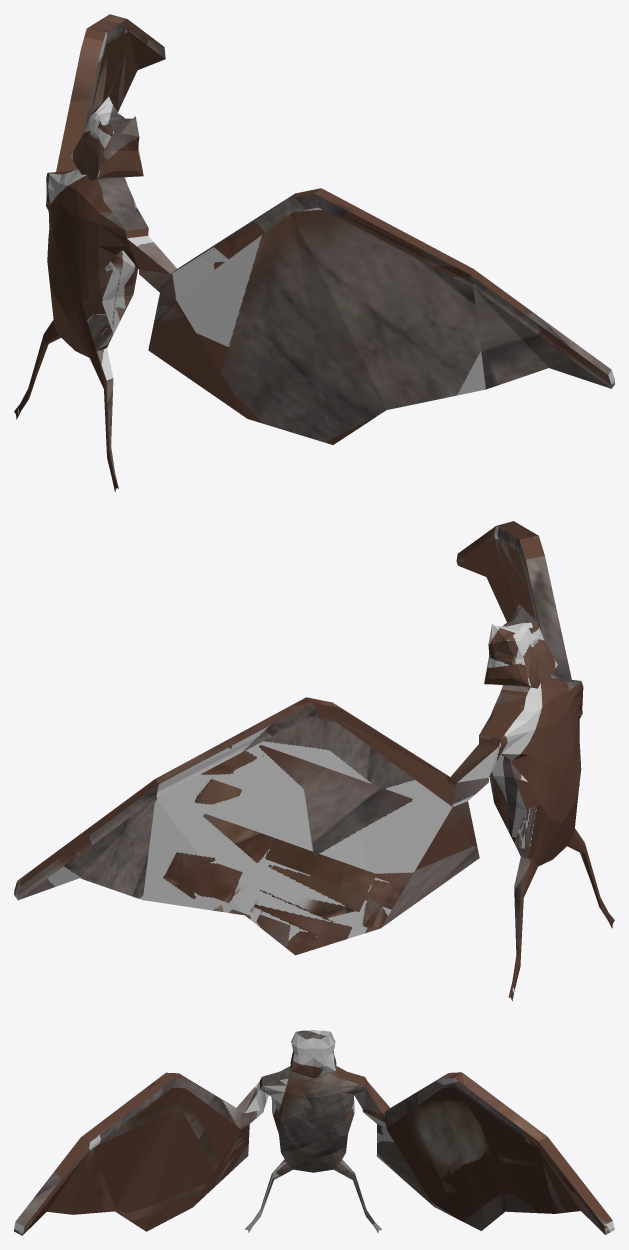
Rendered from Enemigo116.obj.
3 views of the same model, one above another, from view 1: azimuth 30°, elevation 25°; view 2: azimuth 150°, elevation 25°; view 3: azimuth 270°, elevation 25° (orthographic). The views are drawn at different scales.
Parts seen in each view (by area): view 1: Plano; view 2: Plano; view 3: Plano.
Boxes of the visible parts, x1,y1,x2,y2 form: Plano: [14, 14, 614, 492]; Plano: [14, 521, 614, 1001]; Plano: [14, 1030, 614, 1235].
Bounding box in the file's own units: 0.7636 × 0.7483 × 1.85.
Materials: 1 (1 with a texture image).
